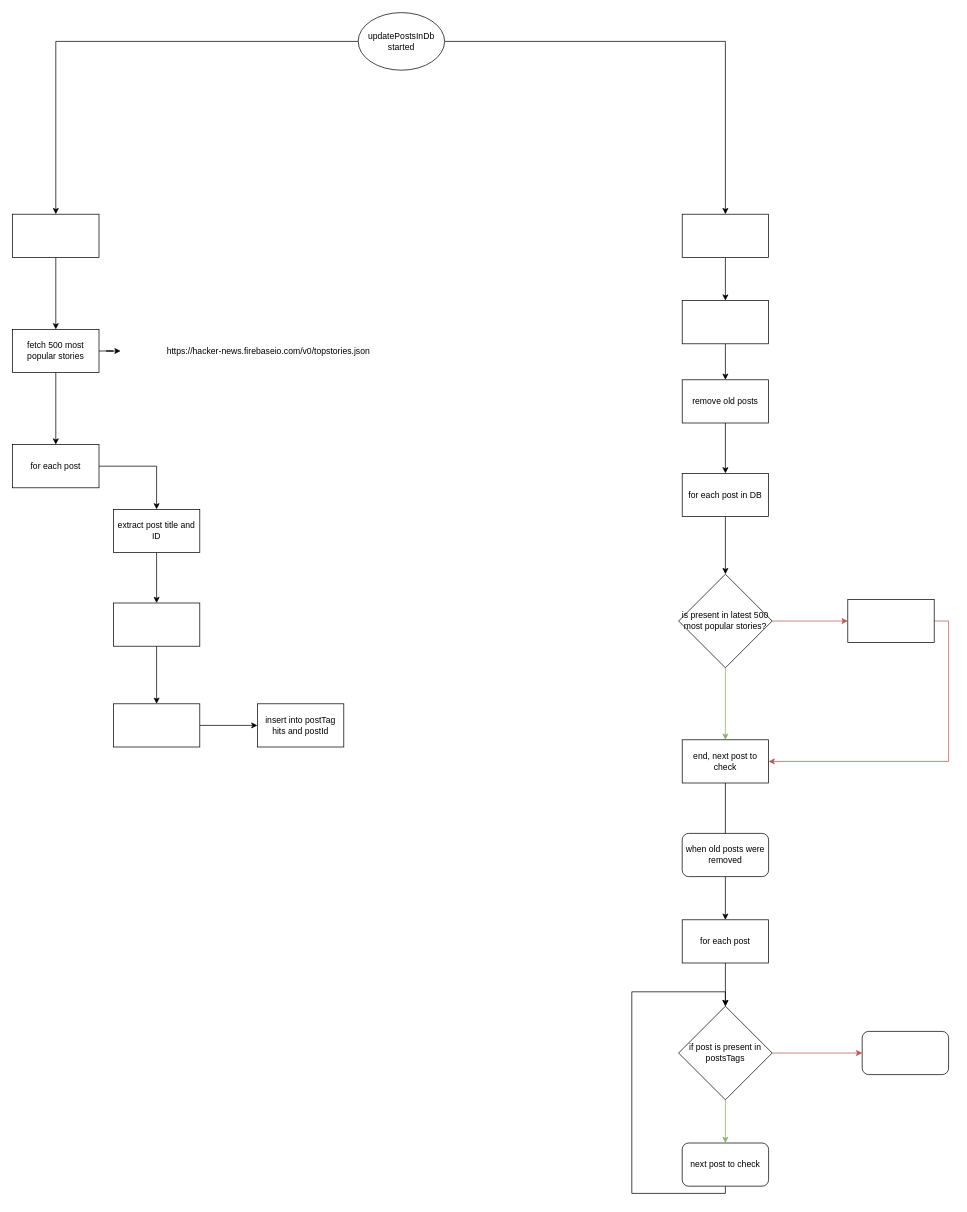
Image size: 967x1212. Some labels were removed from this diagram. The shapes that lost their labels are listed below. From the top down, each one's centre as x and y in pixels, then its label:
the point at 55,235: if no posts in table postTags
the point at 725,235: if there are posts in postTags
the point at 725,322: fetch 500 most popular stories and put it in const
the point at 156,624: puts into wink-nlp
the point at 890,621: remove post from postsTags
the point at 156,725: returns hits
the point at 905,1053: insert that post into postsTags
